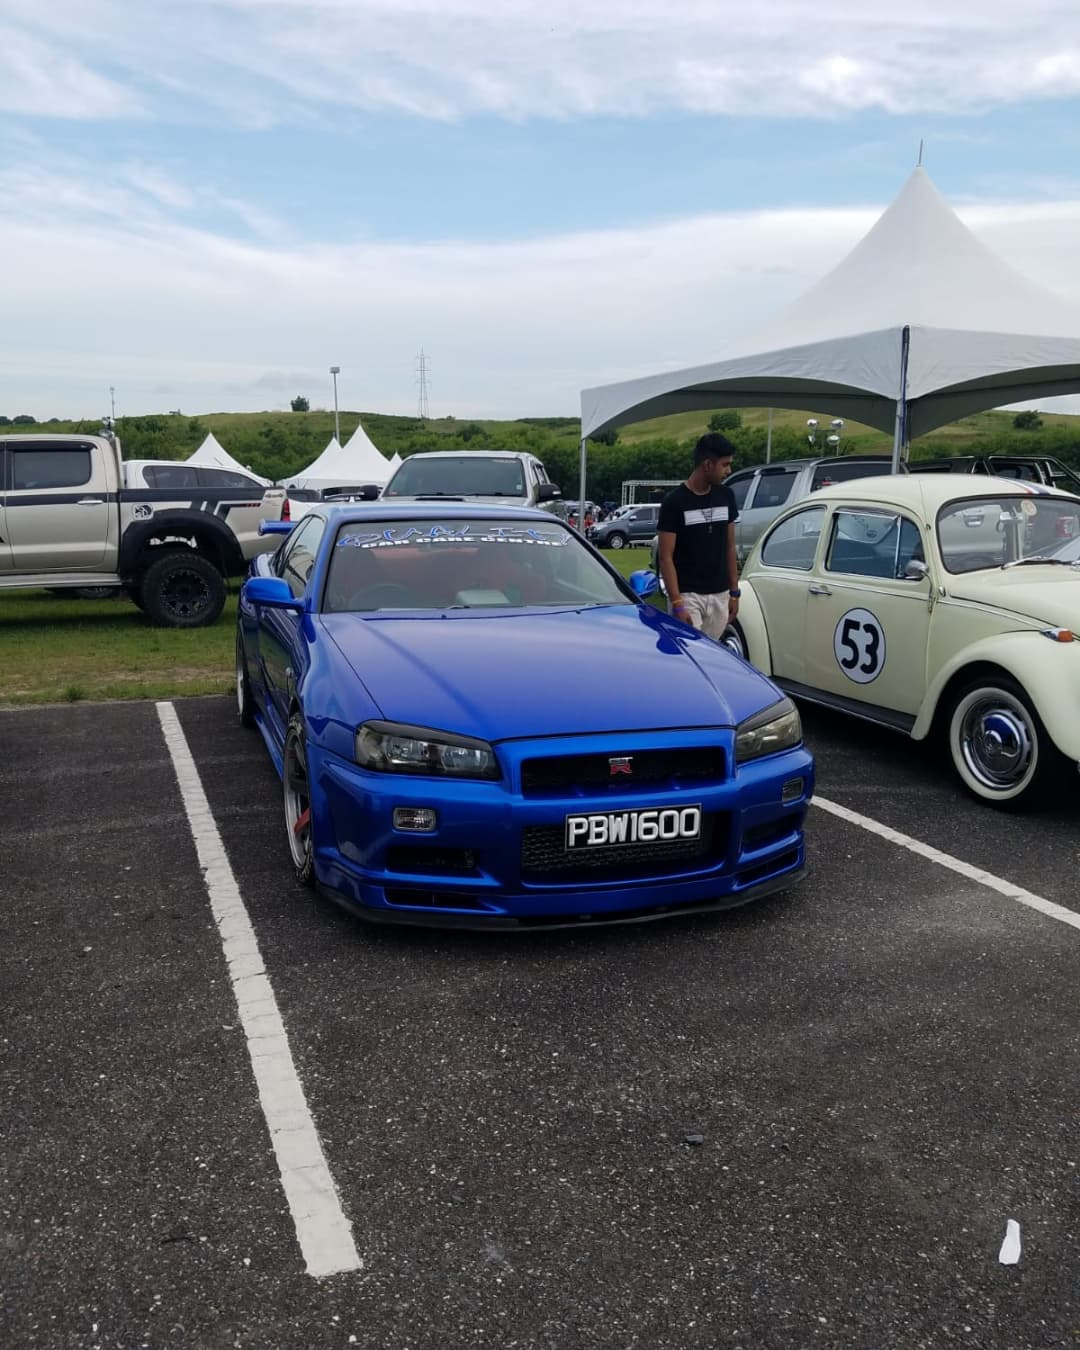License-Plate: (564, 815, 700, 849)
